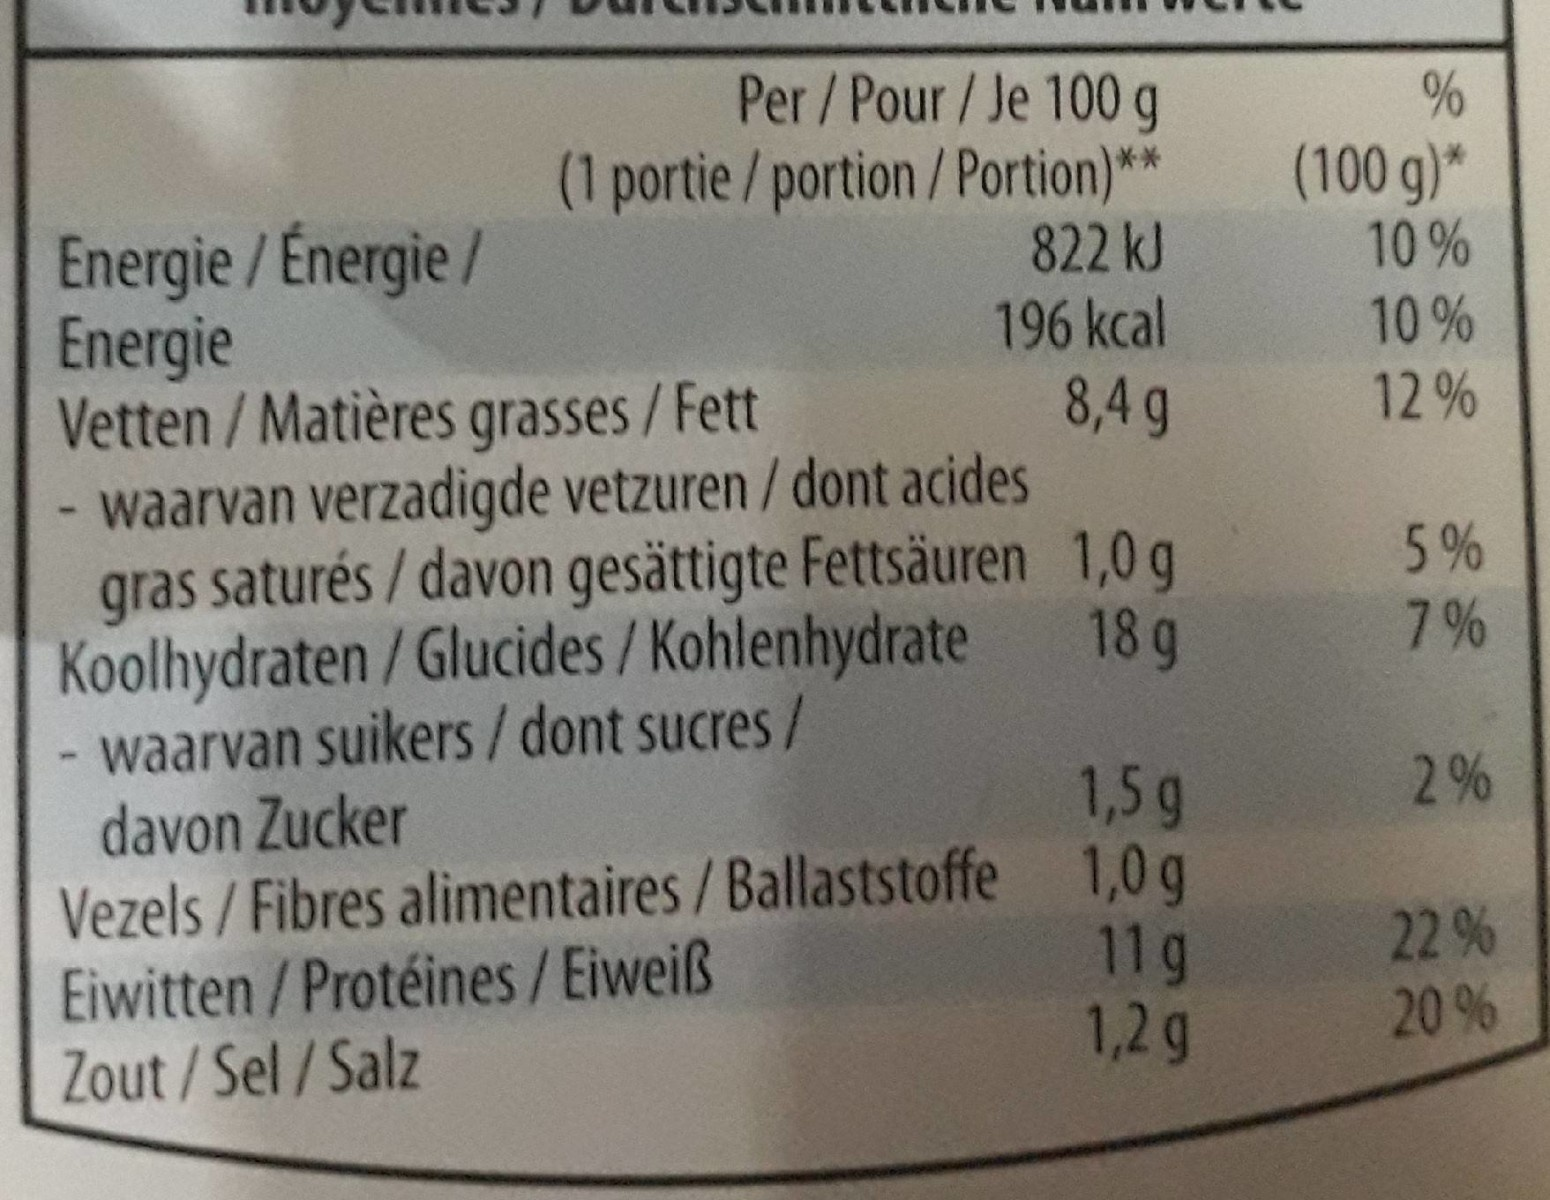column: (63, 36, 1190, 1185), (1290, 48, 1503, 1187)
table: (15, 39, 1547, 1186)
